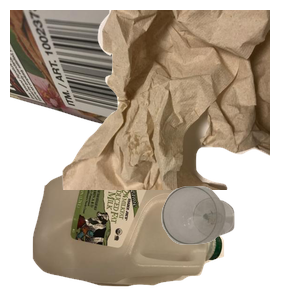cardboard: (10, 10, 213, 146)
glass: (159, 184, 300, 300)
plastic: (30, 159, 247, 300)
trash: (60, 10, 300, 190)
